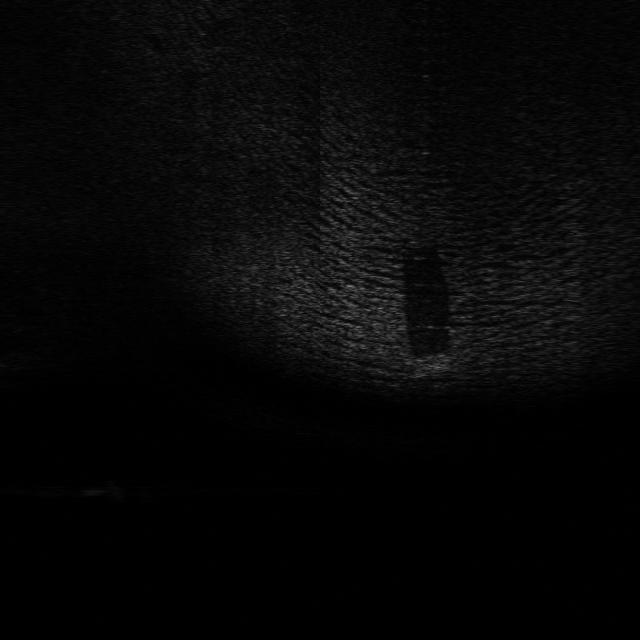cube: (414, 351, 454, 382)
